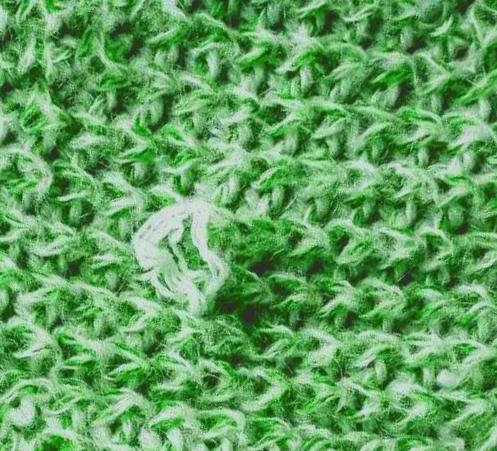snag: (130, 198, 244, 325)
